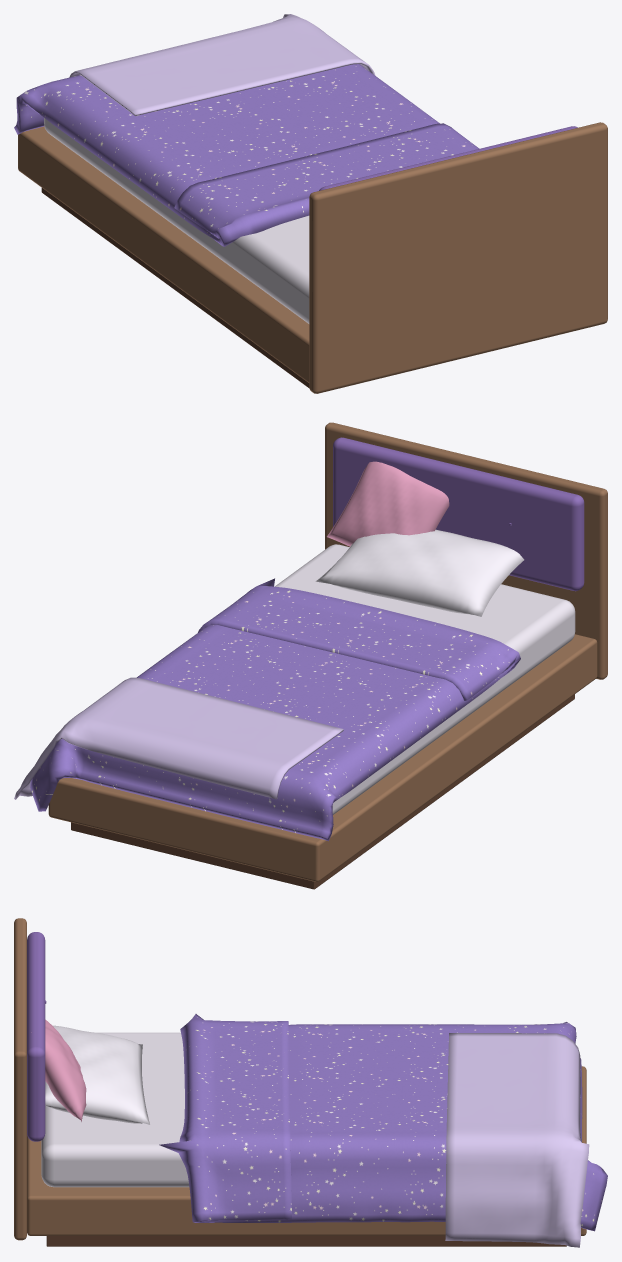
The model's file is bed_frame.fbx.
The picture shows the model from 3 angles, top to bottom: view 1: azimuth 30°, elevation 25°; view 2: azimuth 150°, elevation 25°; view 3: azimuth 270°, elevation 25°; orthographic projection. The views are drawn at different scales.
Visible parts, largest first — view 1: bed_frame; view 2: bed_frame; view 3: bed_frame.
Part boxes in pixels (x1,y1,x2,y2): bed_frame: (14, 14, 607, 393); bed_frame: (14, 422, 607, 889); bed_frame: (14, 918, 607, 1247).
Size of the model in its own units: 1.39 by 0.86 by 2.28.
